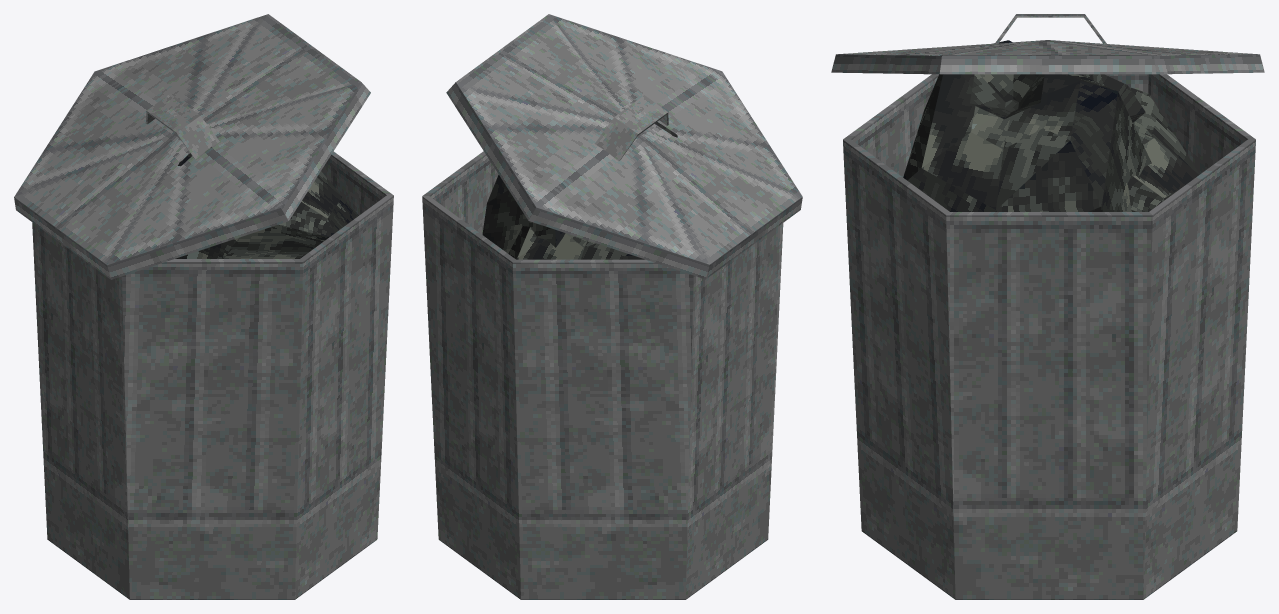
The model's file is metaltrashcan_overflowing.glb.
3 views of the same model, side by side, from view 1: azimuth 30°, elevation 25°; view 2: azimuth 150°, elevation 25°; view 3: azimuth 270°, elevation 25° (orthographic). The views are drawn at different scales.
Parts seen in each view (by area): view 1: metaltrashcan_overflowing; view 2: metaltrashcan_overflowing; view 3: metaltrashcan_overflowing.
Boxes of the visible parts, left/top/right/bottom form: metaltrashcan_overflowing: left=14, top=14, right=393, bottom=599; metaltrashcan_overflowing: left=422, top=14, right=802, bottom=599; metaltrashcan_overflowing: left=831, top=14, right=1264, bottom=599.
Bounding box in the file's own units: 0.7699 × 1.19 × 0.8797.
3 materials, 3 textured.
